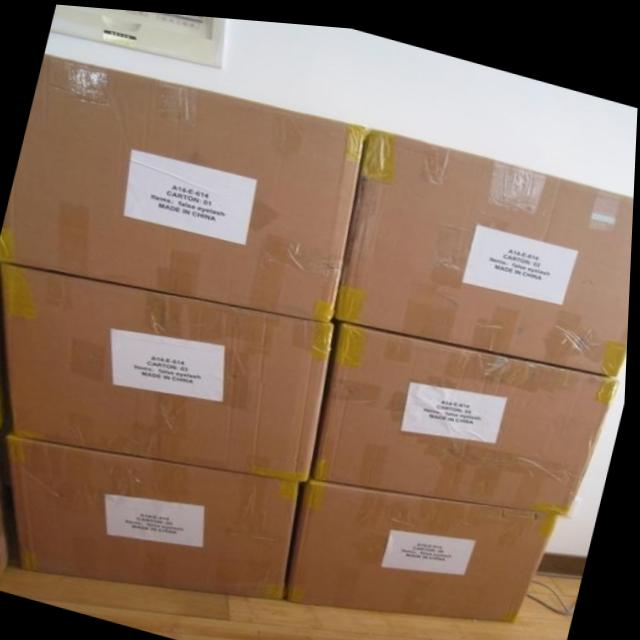box: (0, 53, 366, 316), (336, 122, 635, 366), (1, 264, 339, 475), (318, 317, 621, 507), (13, 436, 304, 595), (292, 475, 563, 613)
